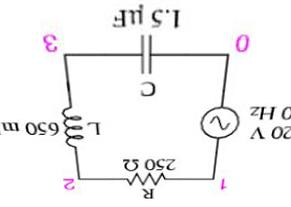inductor: (58, 98, 82, 154)
